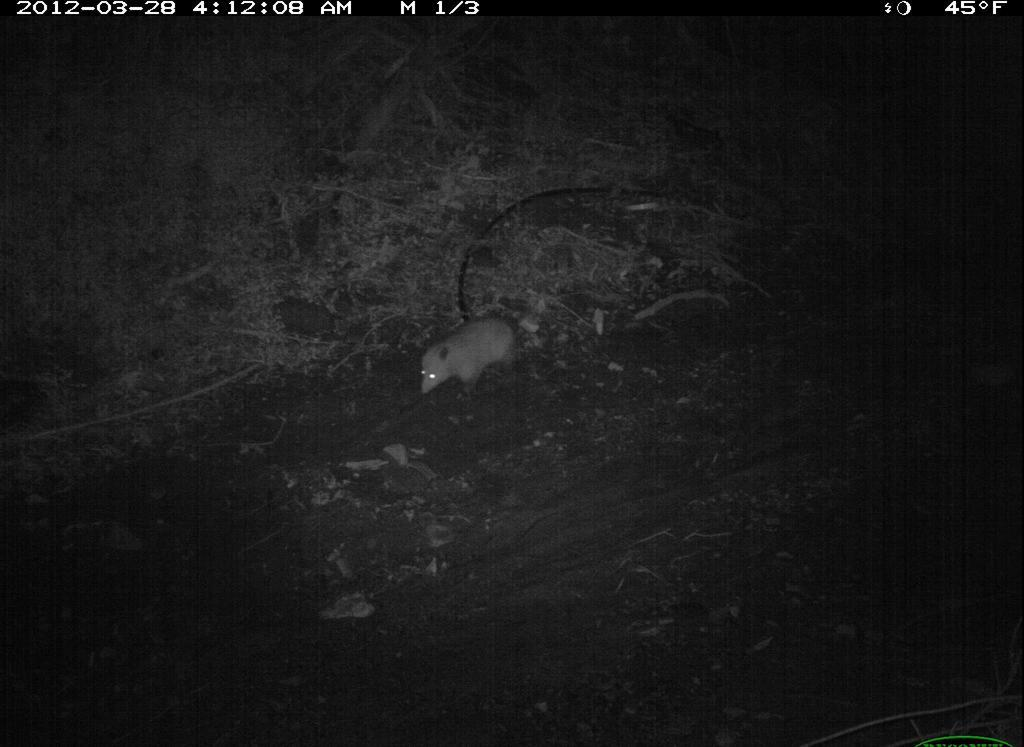opossum: (400, 292, 548, 414)
